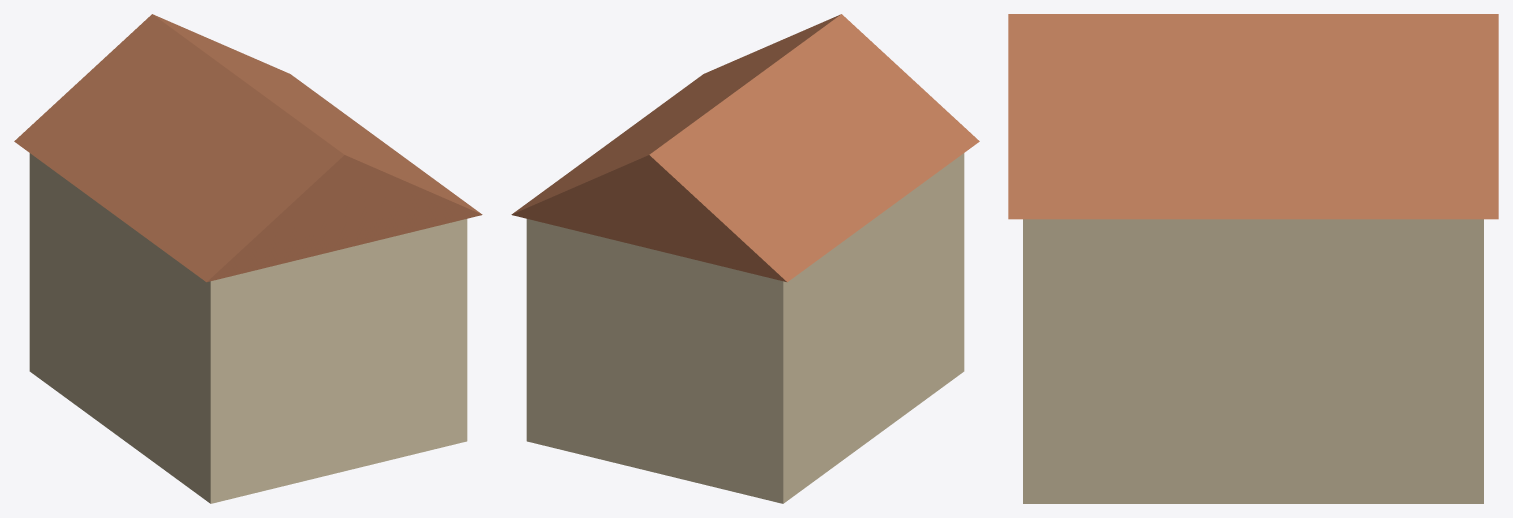
File: block_house.glb
The picture shows the model from 3 angles, left to right: view 1: azimuth 30°, elevation 25°; view 2: azimuth 150°, elevation 25°; view 3: azimuth 270°, elevation 25°; orthographic projection. The views are drawn at different scales.
Visible parts, largest first — view 1: Body, Roof; view 2: Body, Roof; view 3: Body, Roof.
Boxes of the visible parts, x1,y1,x2,y2 form: Body: (29, 153, 467, 503); Roof: (14, 14, 482, 282); Body: (526, 153, 964, 503); Roof: (511, 14, 979, 282); Body: (1023, 219, 1483, 503); Roof: (1008, 14, 1498, 219).
Bounding box in the file's own units: 9.7 × 10.8 × 11.7.
